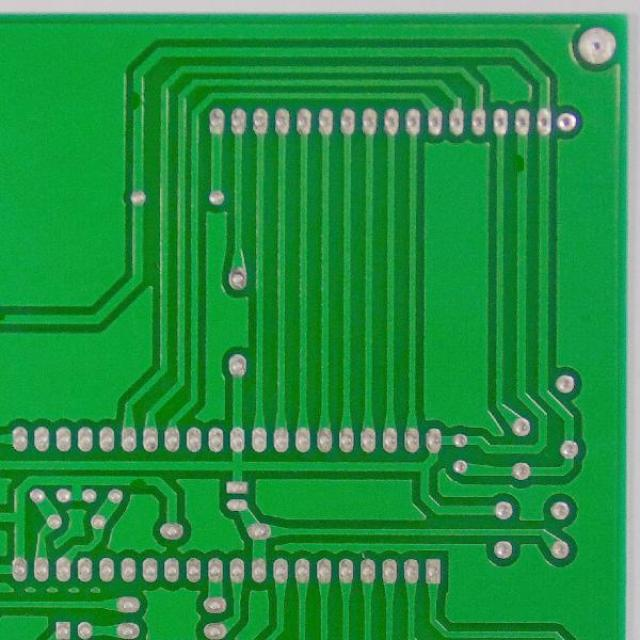MouseBite: (128, 84, 146, 118), (512, 146, 530, 179), (126, 472, 151, 490), (0, 308, 12, 328)
